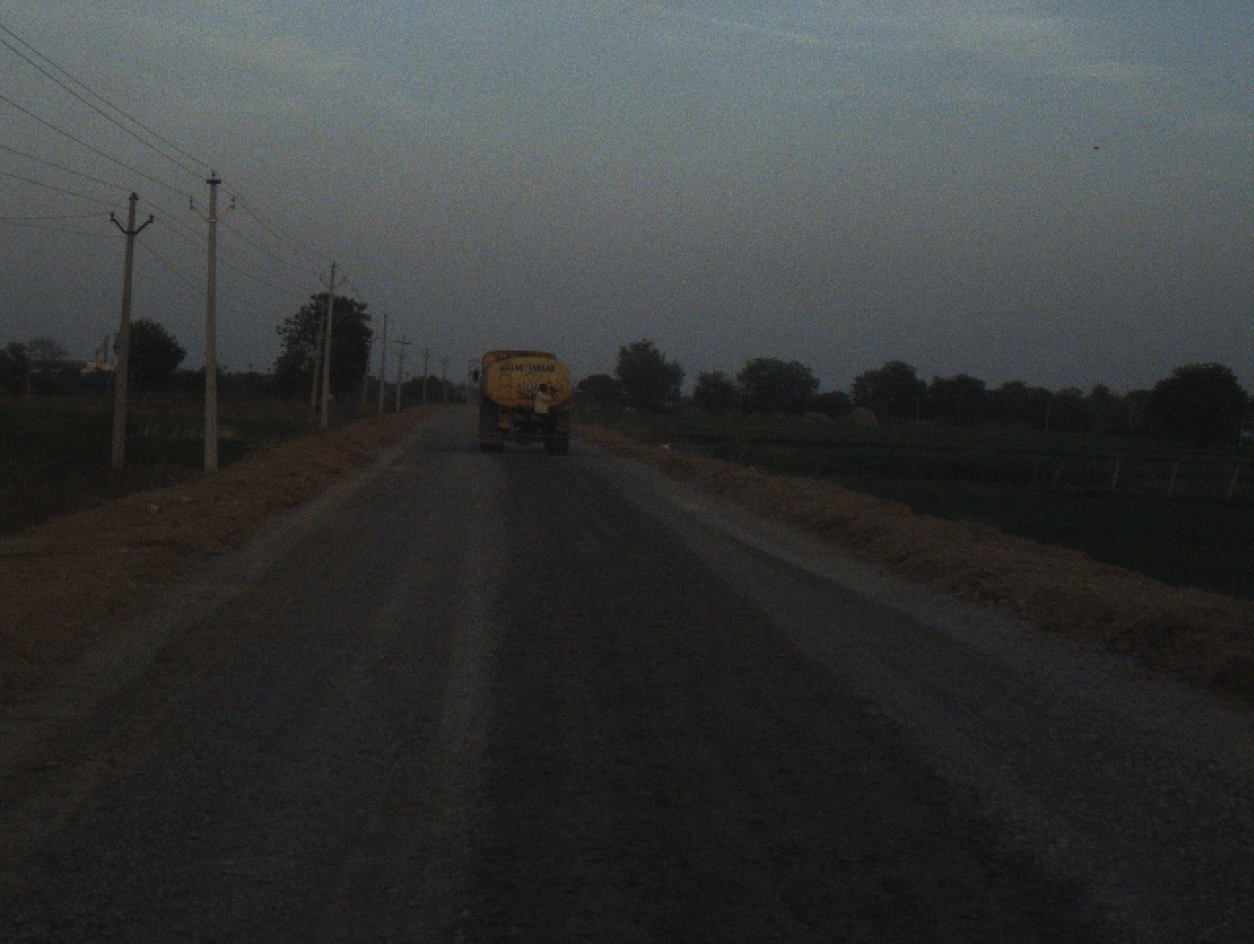rider: (531, 375, 558, 444)
truck: (465, 345, 580, 459)
